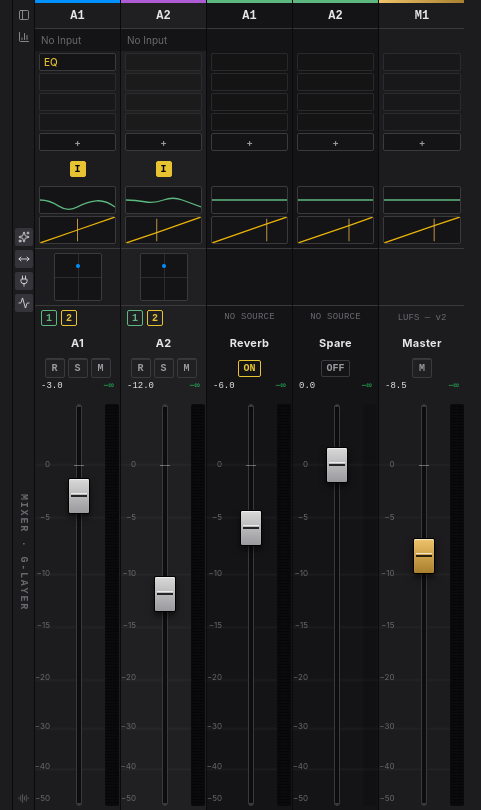
Test case: R23-WC D-C3 (#70): master/bus bank meters-only collapse › the bank toggle is a round-trip: expanding restores the full aux/master bank
This screenshot has width=481, height=810.
Click the button with test id "mixer-masterbus-toggle".
click(24, 37)  # box [14, 28, 32, 46]
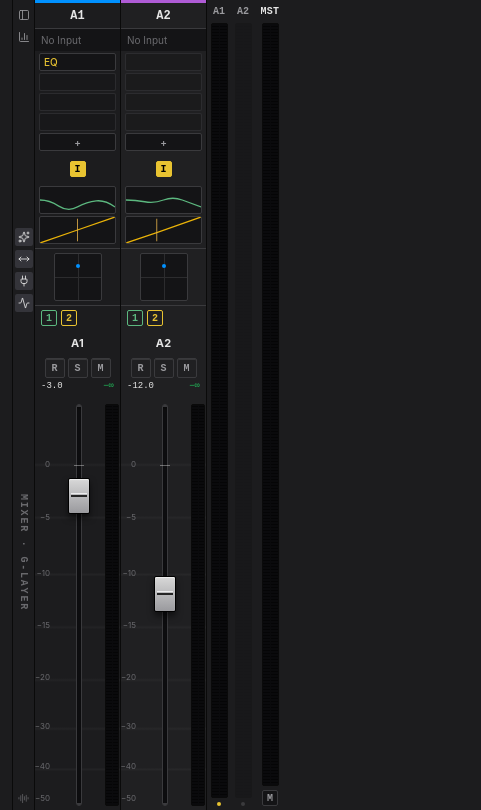
Click the button with test id "mixer-masterbus-toggle".
click(24, 37)  # box [14, 28, 32, 46]
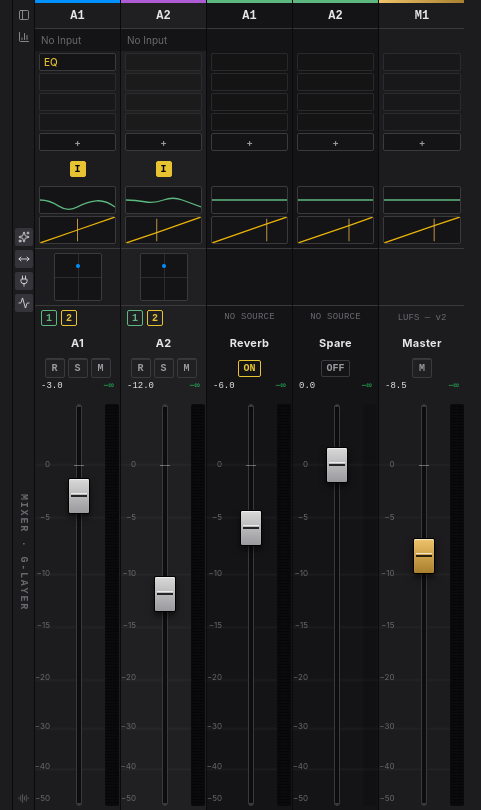
Check: the element with test id "mixer-strip-aux-a1" is shown, box [207, 0, 293, 809]
Check: the element with test id "mixer-strip-aux-a2" is shown, box [293, 0, 379, 809]
Check: the element with test id "mixer-strip-master" is shown, box [379, 0, 464, 809]
